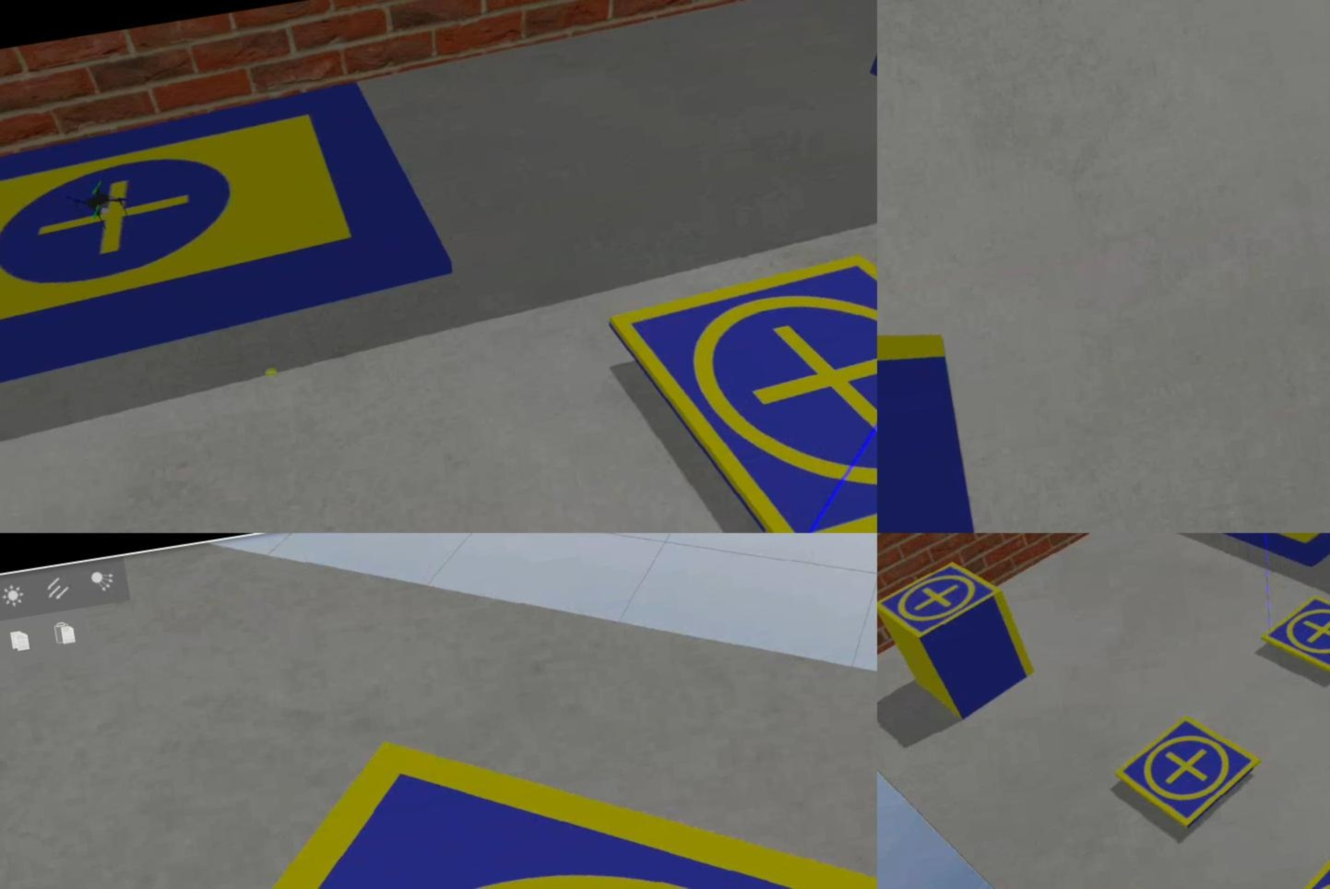large_base: (1, 75, 460, 411), (1149, 534, 1330, 593)
small_base: (1, 634, 877, 889), (607, 232, 877, 534), (1111, 705, 1273, 838), (877, 553, 1012, 650), (1254, 587, 1330, 686)
